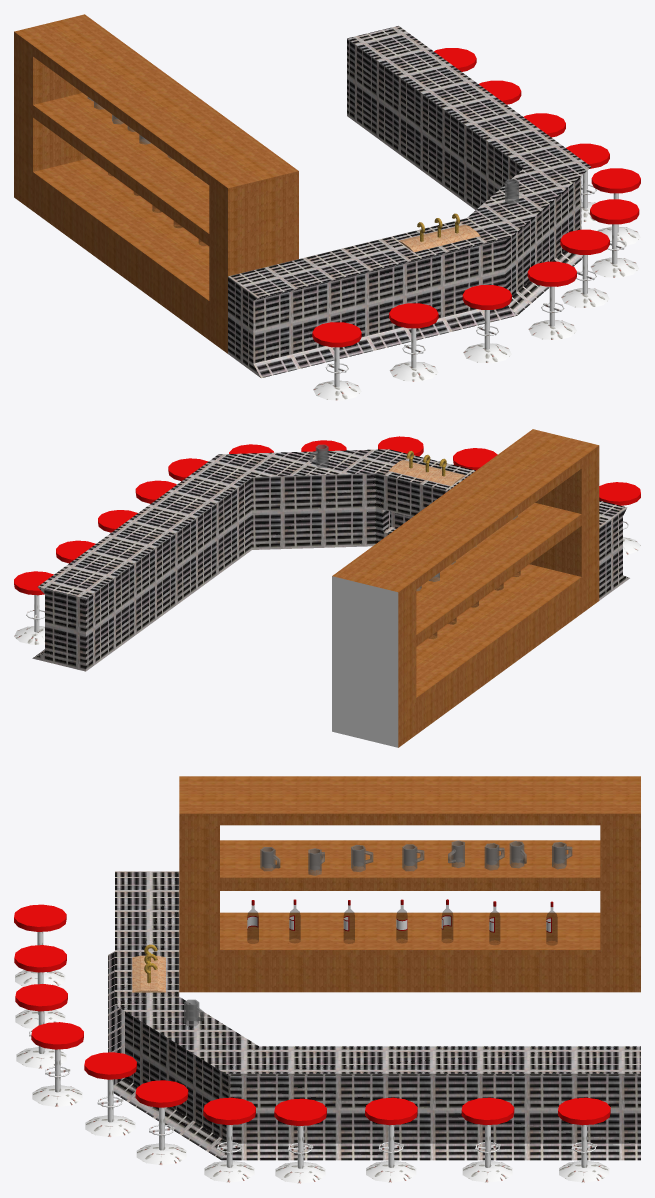
Rendered from bar.dae.
3 views of the same model, one above another, from view 1: azimuth 30°, elevation 25°; view 2: azimuth 150°, elevation 25°; view 3: azimuth 270°, elevation 25° (orthographic). The views are drawn at different scales.
Parts seen in each view (by area): view 1: Group1, Group20, Group6, Group16, Group13, Group21, Group11, Group14, Group15, Group10, Group9, Group17; view 2: Group1, Group17, Group6, Group13, Group16, Group15, Group14, Group10, Group9; view 3: Group1, Group21, Group14, Group9, Group15, Group17, Group11, Group16, Group10, Group13, Group20, Group6.
Part boxes in pixels (bbox=[...]): Group1: bbox=[14, 14, 590, 378]; Group20: bbox=[389, 303, 438, 381]; Group6: bbox=[312, 322, 361, 400]; Group16: bbox=[527, 261, 576, 340]; Group13: bbox=[462, 285, 511, 363]; Group21: bbox=[560, 229, 609, 308]; Group11: bbox=[590, 199, 639, 277]; Group14: bbox=[591, 168, 640, 246]; Group15: bbox=[566, 143, 609, 222]; Group10: bbox=[479, 80, 521, 104]; Group9: bbox=[523, 113, 565, 137]; Group17: bbox=[434, 48, 476, 71]; Group1: bbox=[32, 429, 629, 747]; Group17: bbox=[14, 571, 53, 644]; Group6: bbox=[599, 482, 640, 555]; Group13: bbox=[453, 448, 497, 470]; Group16: bbox=[378, 436, 423, 456]; Group15: bbox=[135, 480, 176, 503]; Group14: bbox=[168, 458, 208, 481]; Group10: bbox=[56, 540, 95, 563]; Group9: bbox=[98, 510, 137, 532]; Group1: bbox=[108, 776, 640, 1160]; Group21: bbox=[84, 1052, 136, 1137]; Group14: bbox=[203, 1097, 255, 1182]; Group9: bbox=[365, 1097, 417, 1182]; Group15: bbox=[274, 1098, 326, 1183]; Group17: bbox=[558, 1097, 610, 1182]; Group11: bbox=[135, 1080, 188, 1165]; Group16: bbox=[31, 1022, 83, 1106]; Group10: bbox=[461, 1097, 514, 1182]; Group13: bbox=[15, 984, 67, 1068]; Group20: bbox=[14, 945, 66, 1028]; Group6: bbox=[14, 904, 66, 986].
Bounding box in the file's own units: 275 × 319 × 100.
